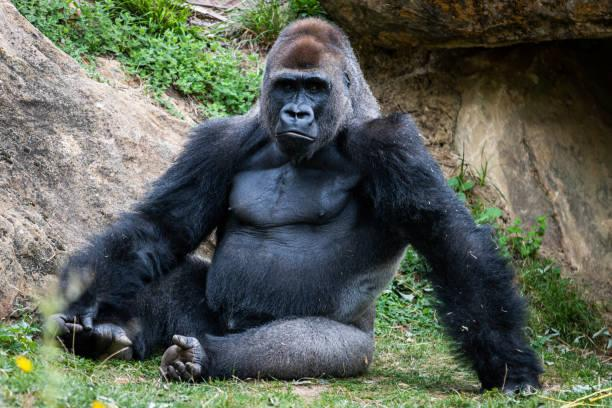goriile_montagne: (52, 0, 555, 386)
